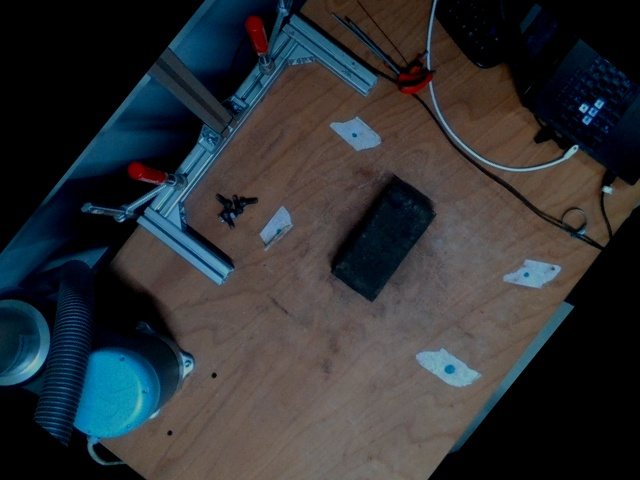brick: (331, 182, 436, 301)
